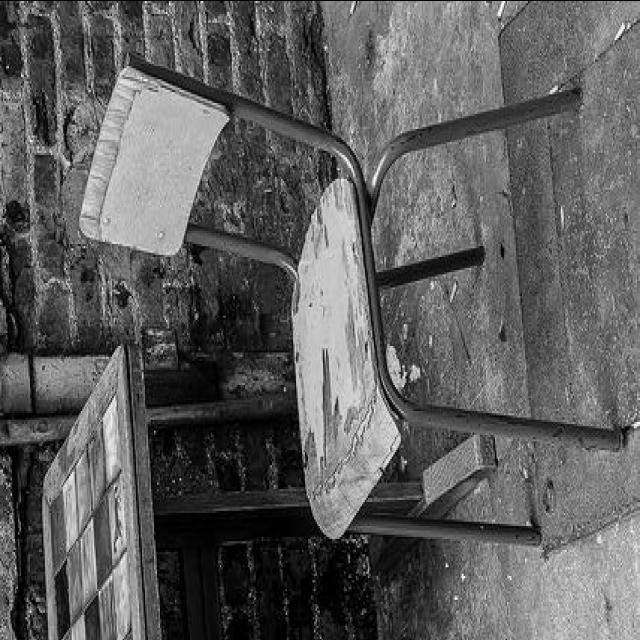chair: (78, 54, 628, 550)
